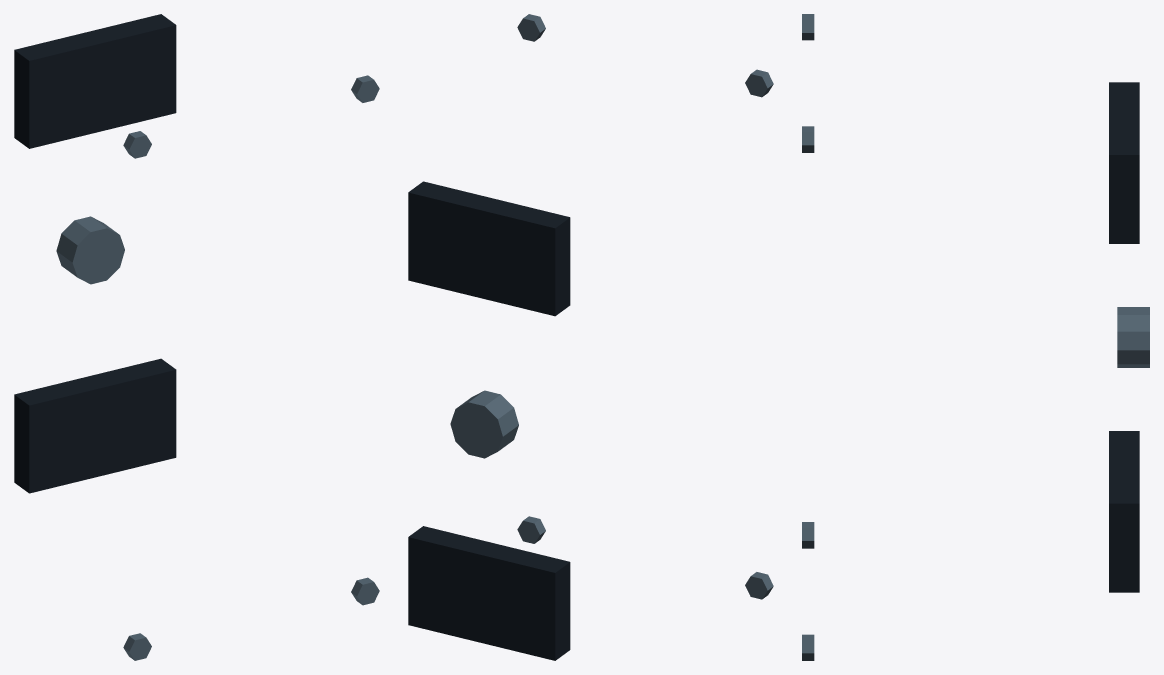
The model's file is P16-03_detail.obj.
3 views of the same model, side by side, from view 1: azimuth 30°, elevation 25°; view 2: azimuth 150°, elevation 25°; view 3: azimuth 270°, elevation 25° (orthographic).
Visible parts, largest first — view 1: P16-03_STATIC_DarkPanel_DETAIL_RearHanger_0, P16-03_STATIC_DarkPanel_DETAIL_RearHanger_1, P16-03_STATIC_Steel_DETAIL_CableEntryGland, P16-03_STATIC_Steel_DETAIL_GuideRailScrew_L_B, P16-03_STATIC_Steel_DETAIL_GuideRailScrew_R_B, P16-03_STATIC_Steel_DETAIL_GuideRailScrew_L_T, P16-03_STATIC_Steel_DETAIL_GuideRailScrew_R_T; view 2: P16-03_STATIC_DarkPanel_DETAIL_RearHanger_1, P16-03_STATIC_DarkPanel_DETAIL_RearHanger_0, P16-03_STATIC_Steel_DETAIL_CableEntryGland, P16-03_STATIC_Steel_DETAIL_GuideRailScrew_L_T, P16-03_STATIC_Steel_DETAIL_GuideRailScrew_R_T, P16-03_STATIC_Steel_DETAIL_GuideRailScrew_R_B, P16-03_STATIC_Steel_DETAIL_GuideRailScrew_L_B; view 3: P16-03_STATIC_DarkPanel_DETAIL_RearHanger_0, P16-03_STATIC_DarkPanel_DETAIL_RearHanger_1, P16-03_STATIC_Steel_DETAIL_CableEntryGland.
Boxes of the visible parts, x1,y1,x2,y2 form: P16-03_STATIC_DarkPanel_DETAIL_RearHanger_0: (14,358,176,493); P16-03_STATIC_DarkPanel_DETAIL_RearHanger_1: (14,14,176,148); P16-03_STATIC_Steel_DETAIL_CableEntryGland: (56,216,124,284); P16-03_STATIC_Steel_DETAIL_GuideRailScrew_L_B: (123,633,151,660); P16-03_STATIC_Steel_DETAIL_GuideRailScrew_R_B: (351,577,379,605); P16-03_STATIC_Steel_DETAIL_GuideRailScrew_L_T: (123,131,151,158); P16-03_STATIC_Steel_DETAIL_GuideRailScrew_R_T: (351,75,379,102); P16-03_STATIC_DarkPanel_DETAIL_RearHanger_1: (408,181,570,316); P16-03_STATIC_DarkPanel_DETAIL_RearHanger_0: (408,526,570,660); P16-03_STATIC_Steel_DETAIL_CableEntryGland: (450,390,518,458); P16-03_STATIC_Steel_DETAIL_GuideRailScrew_L_T: (745,69,773,97); P16-03_STATIC_Steel_DETAIL_GuideRailScrew_R_T: (517,14,545,41); P16-03_STATIC_Steel_DETAIL_GuideRailScrew_R_B: (517,516,545,543); P16-03_STATIC_Steel_DETAIL_GuideRailScrew_L_B: (745,572,773,599); P16-03_STATIC_DarkPanel_DETAIL_RearHanger_0: (1109,431,1139,592); P16-03_STATIC_DarkPanel_DETAIL_RearHanger_1: (1109,82,1139,243); P16-03_STATIC_Steel_DETAIL_CableEntryGland: (1117,307,1149,367).
Bounding box in the file's own units: 0.143 × 0.2853 × 0.17.
